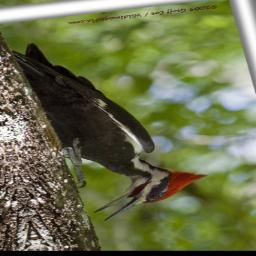Woodpecker: (9, 27, 218, 227)
